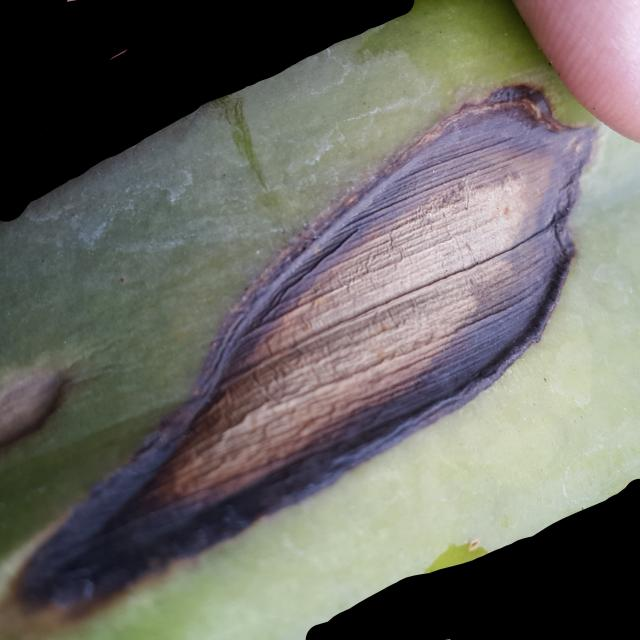mite: (218, 94, 284, 212), (411, 525, 501, 582), (423, 536, 488, 574), (50, 574, 98, 608), (258, 188, 281, 211), (78, 577, 96, 601), (112, 269, 130, 289), (357, 95, 375, 114), (537, 370, 553, 388), (433, 25, 446, 37), (360, 99, 371, 109), (218, 170, 228, 181), (117, 274, 126, 284), (501, 28, 510, 37), (541, 374, 549, 384), (436, 28, 443, 35)
sunburn: (9, 79, 602, 628)
